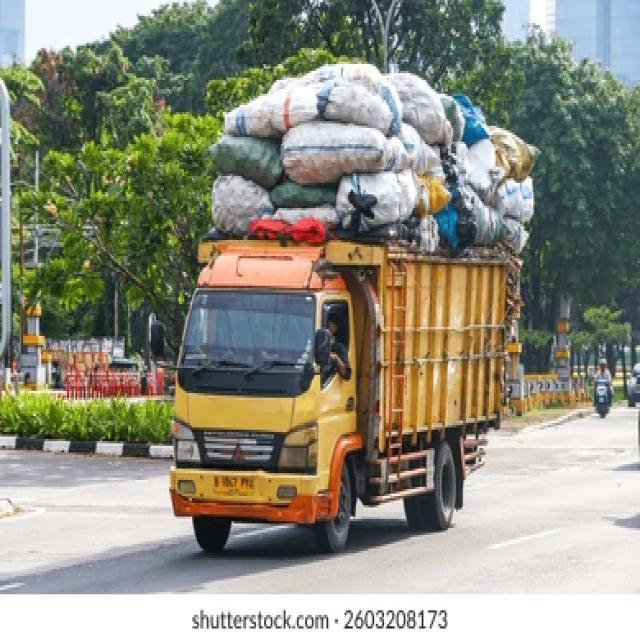mitsubishi: (231, 441, 247, 469)
